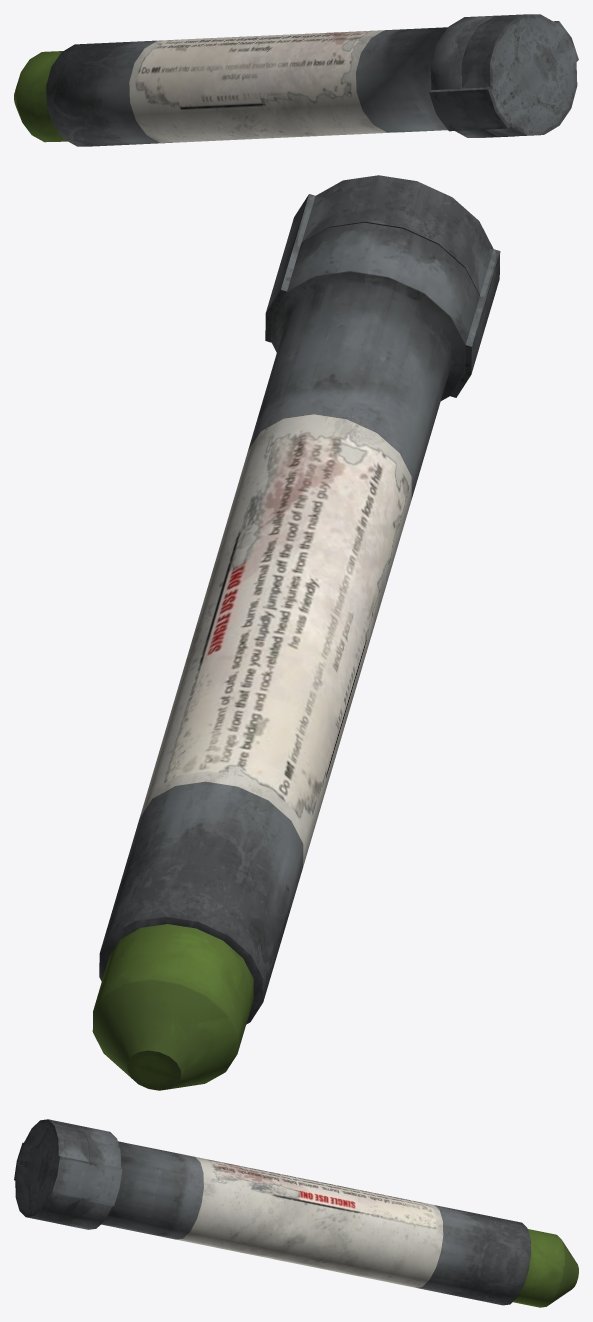
Rendered from syringe.glb.
3 views of the same model, one above another, from view 1: azimuth 30°, elevation 25°; view 2: azimuth 150°, elevation 25°; view 3: azimuth 270°, elevation 25° (orthographic). The views are drawn at different scales.
Visible parts, largest first — view 1: syringe; view 2: syringe; view 3: syringe.
Part boxes in pixels (<box>): syringe: <box>14,14,578,146</box>; syringe: <box>92,175,500,1090</box>; syringe: <box>14,1119,578,1307</box>.
Bounding box in the file's own units: 0.0616 × 0.0672 × 0.14.
1 material, 1 textured.
